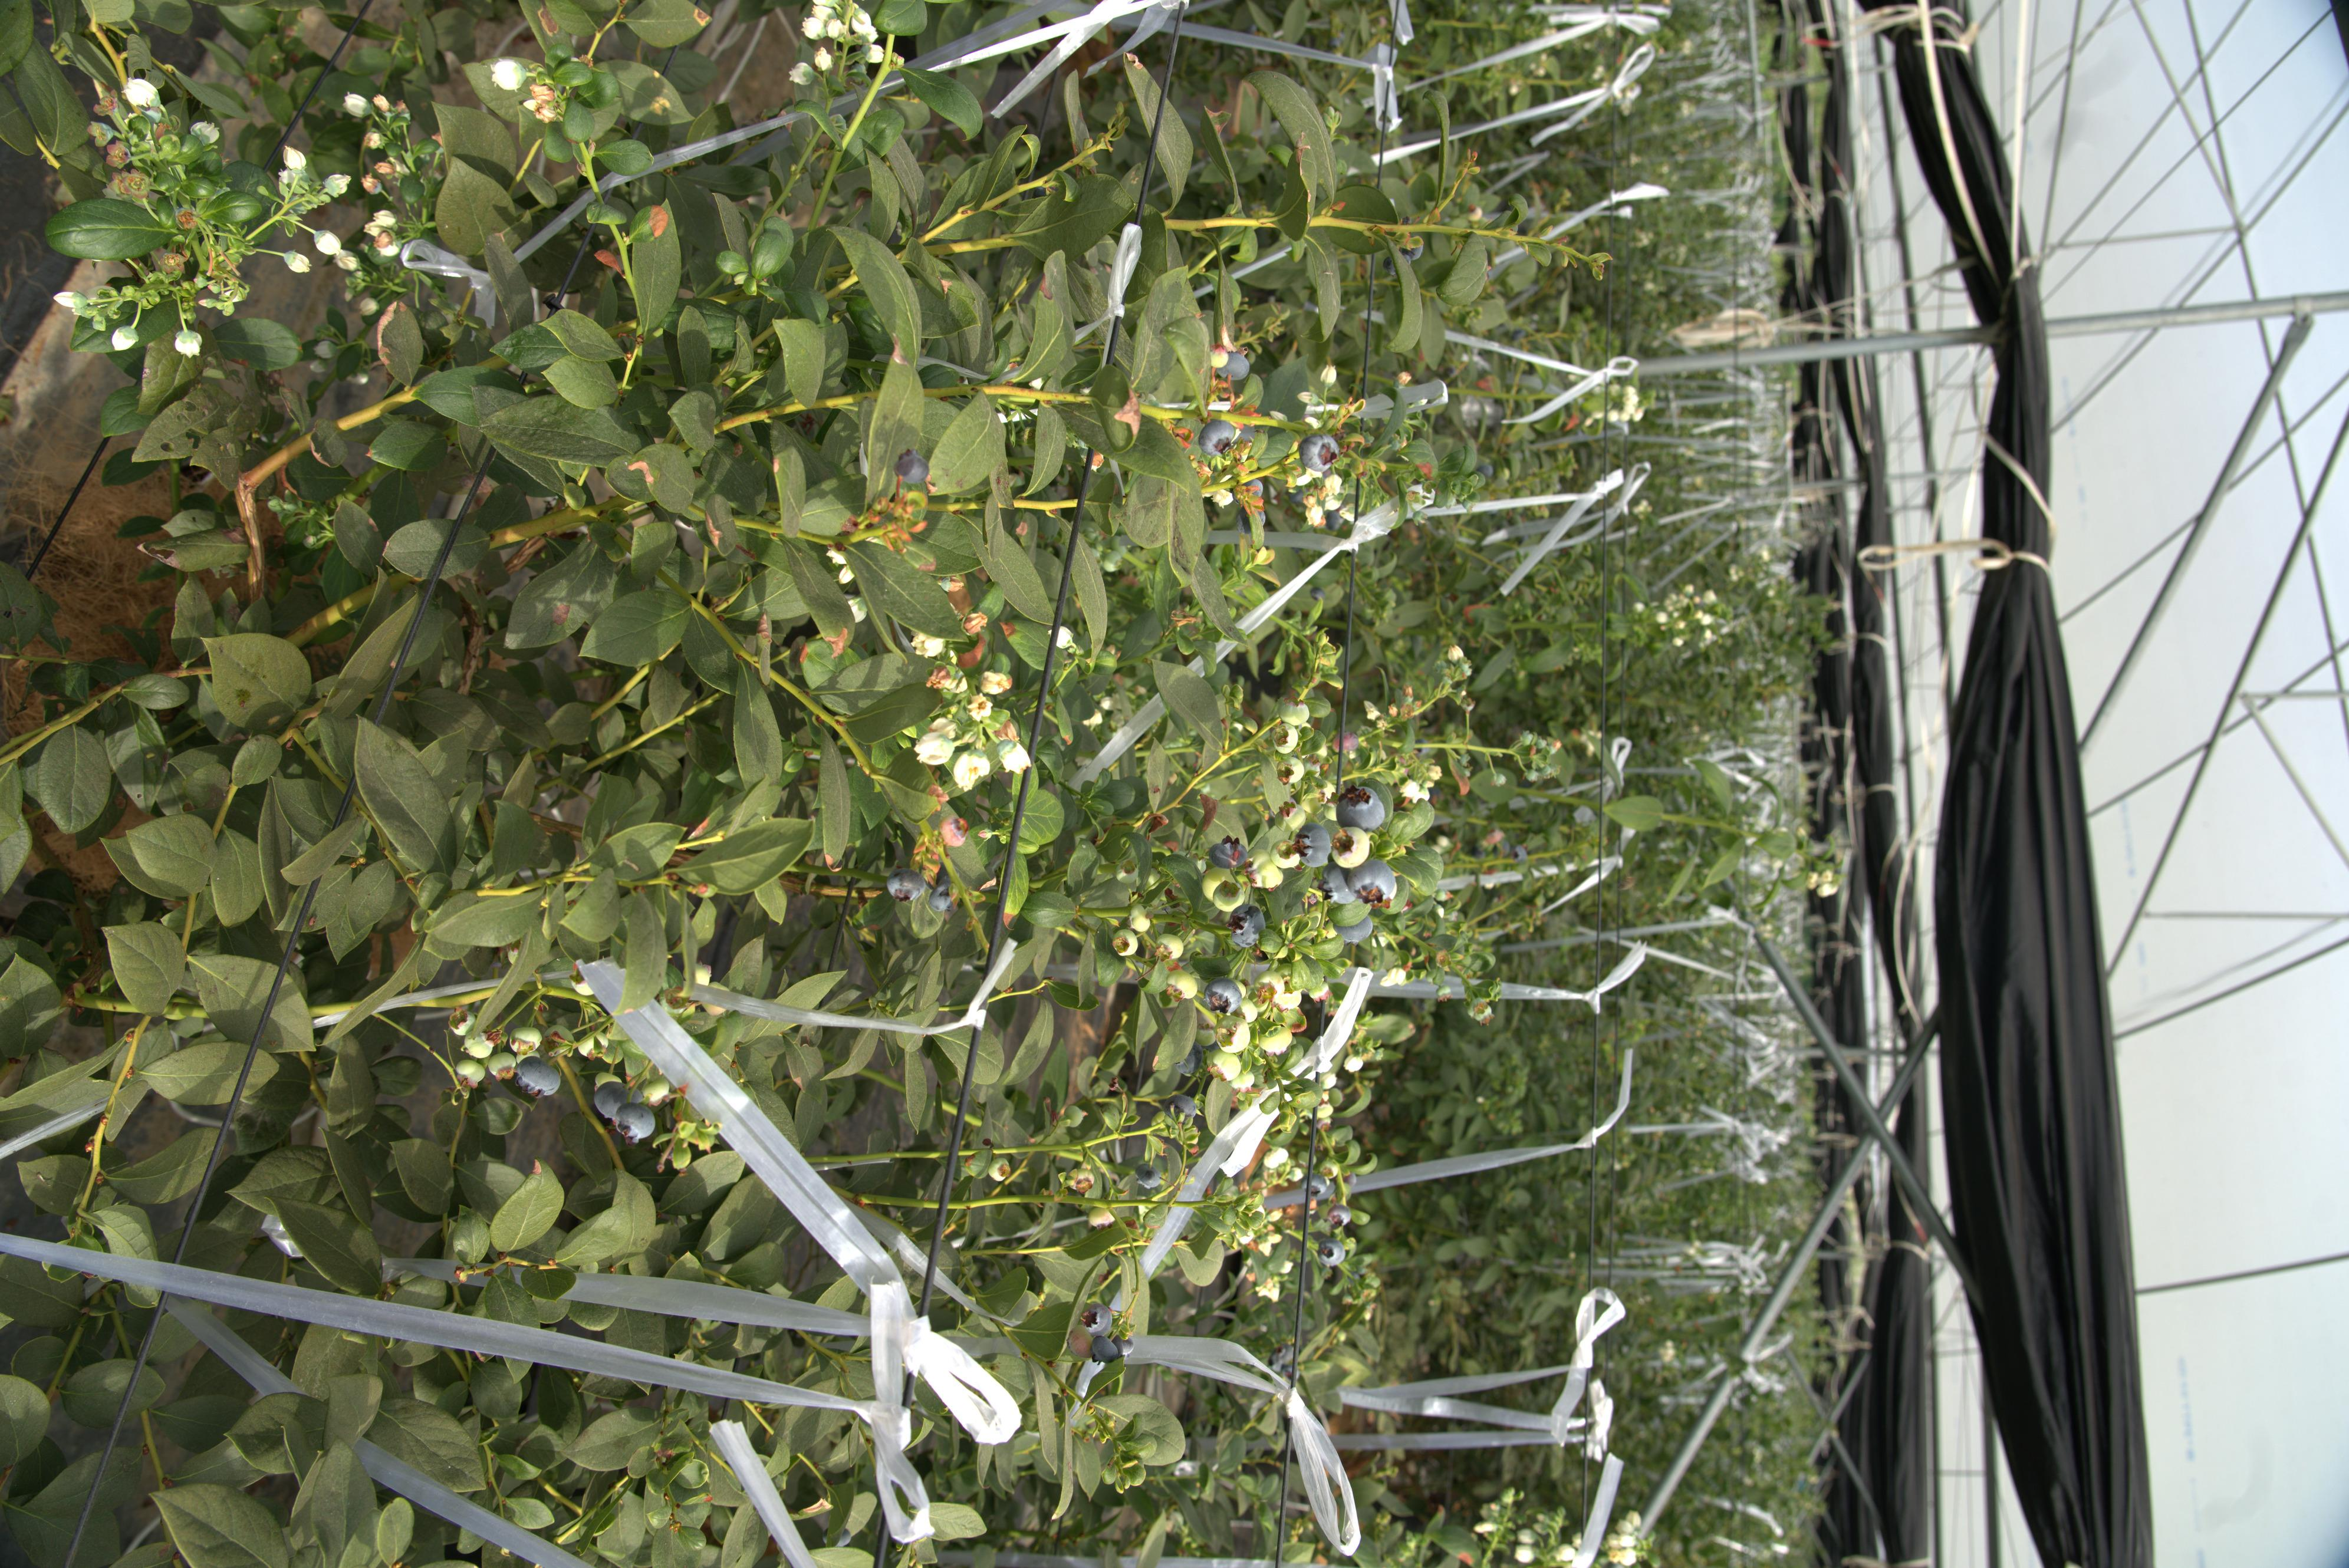ripe-blueberries: (1285, 636, 1354, 667), (1179, 644, 1241, 677), (1620, 1139, 1677, 1172), (1353, 723, 1421, 748), (1652, 1131, 1715, 1158), (650, 674, 707, 699), (624, 744, 685, 767), (1236, 680, 1299, 702), (753, 720, 805, 746), (1467, 741, 1519, 765), (1953, 824, 2008, 846), (1301, 666, 1357, 687), (1307, 951, 1352, 977), (1258, 736, 1303, 760), (673, 948, 722, 971), (1377, 649, 1412, 676), (1319, 929, 1368, 948), (2005, 822, 2050, 842), (531, 733, 574, 752), (1643, 768, 1677, 790), (1746, 792, 1782, 811), (1859, 670, 1894, 690), (1577, 765, 1611, 784), (1801, 666, 1835, 680), (1764, 682, 1794, 699), (2001, 810, 2027, 823)
semi-ripe-blueberries: (1584, 1193, 1645, 1224), (1236, 654, 1302, 678), (1529, 734, 1573, 760), (1570, 742, 1624, 763), (1130, 695, 1177, 717), (1279, 716, 1332, 736), (1535, 707, 1582, 729), (1542, 1237, 1587, 1259), (1460, 711, 1502, 733), (1457, 769, 1498, 790), (1540, 1207, 1580, 1228), (1085, 702, 1130, 721), (1400, 778, 1440, 798), (1255, 703, 1303, 720), (1588, 1244, 1627, 1264), (1590, 1246, 1628, 1264), (1512, 1251, 1551, 1270), (1048, 694, 1084, 714), (1752, 836, 1787, 857), (1393, 811, 1436, 827), (1578, 1224, 1614, 1243), (1810, 822, 1838, 842), (1357, 800, 1393, 815), (1548, 1165, 1583, 1180), (1739, 891, 1767, 908), (514, 749, 550, 762), (1498, 727, 1528, 739)
